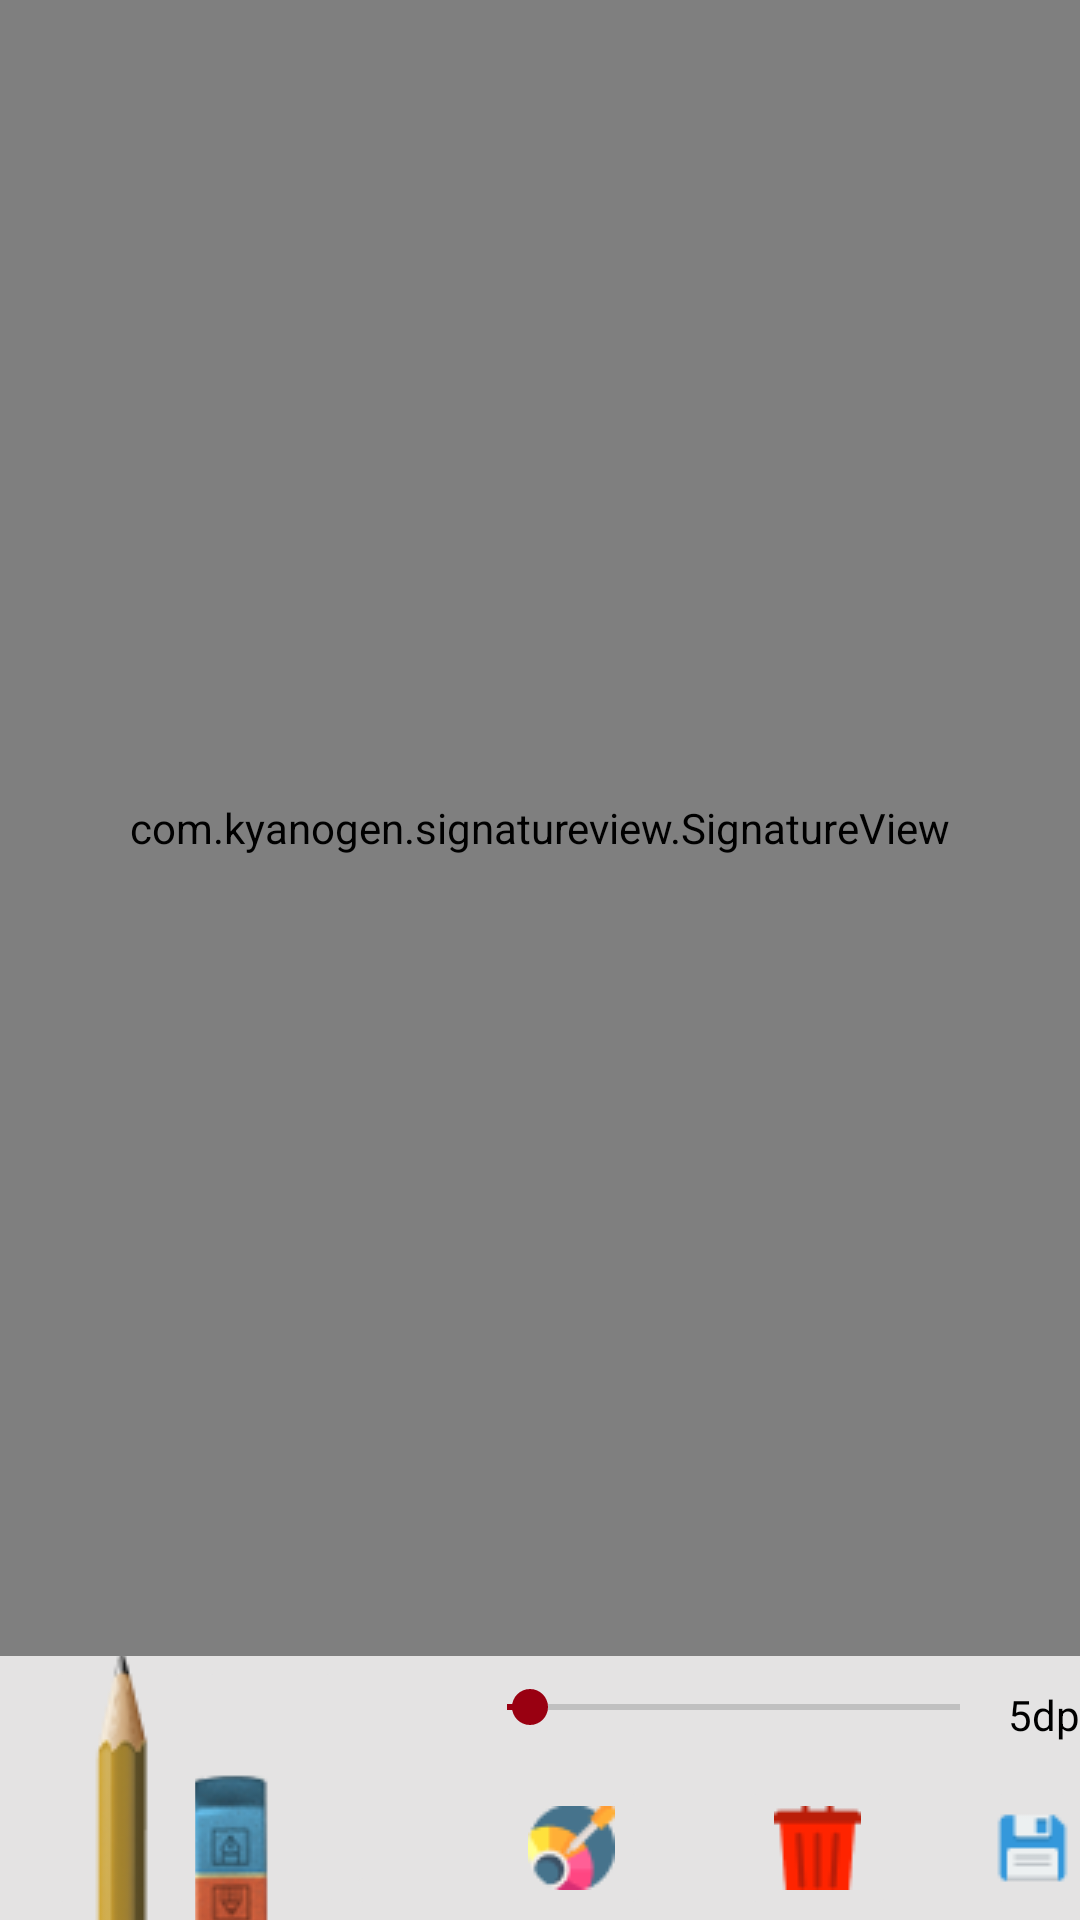

Icons on this 1080*1920 Android screen, each with the point to tap as (x,y):
floppy: (1032,1848)
longpencil: (122,1788)
shorteraser: (231,1847)
trash: (817,1848)
